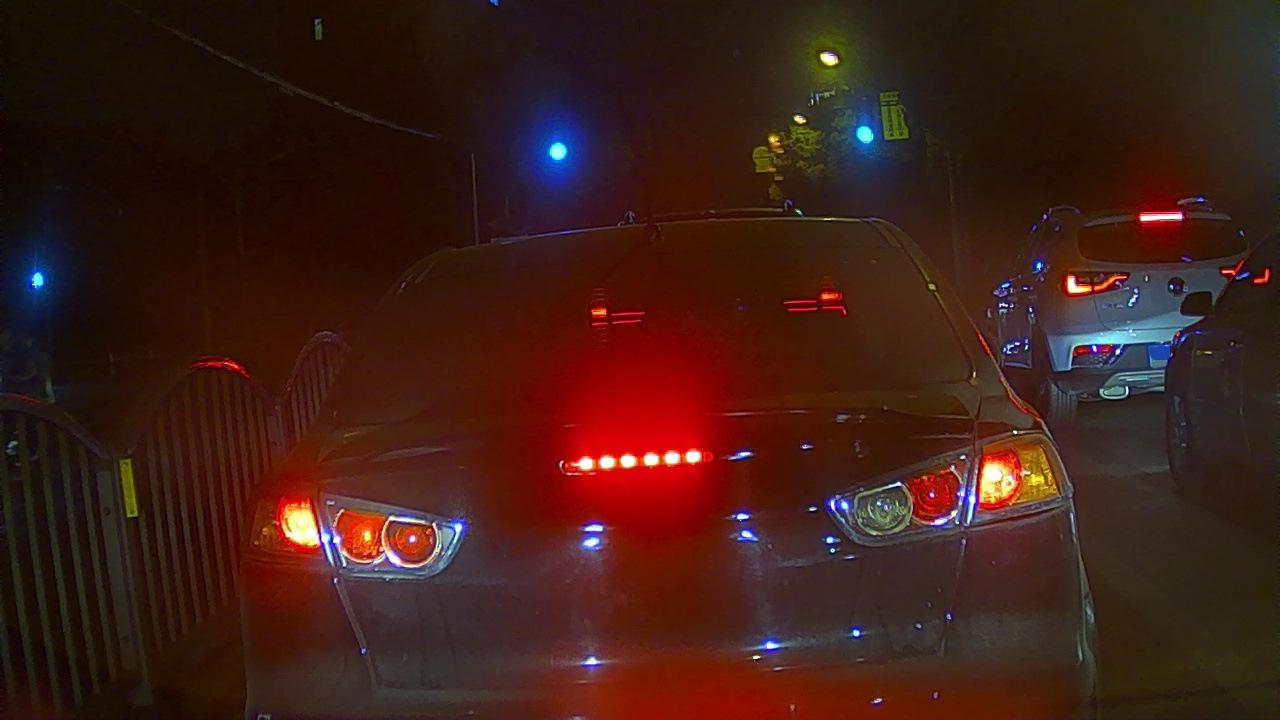traffic_light: (541, 134, 573, 166), (851, 118, 878, 150)
